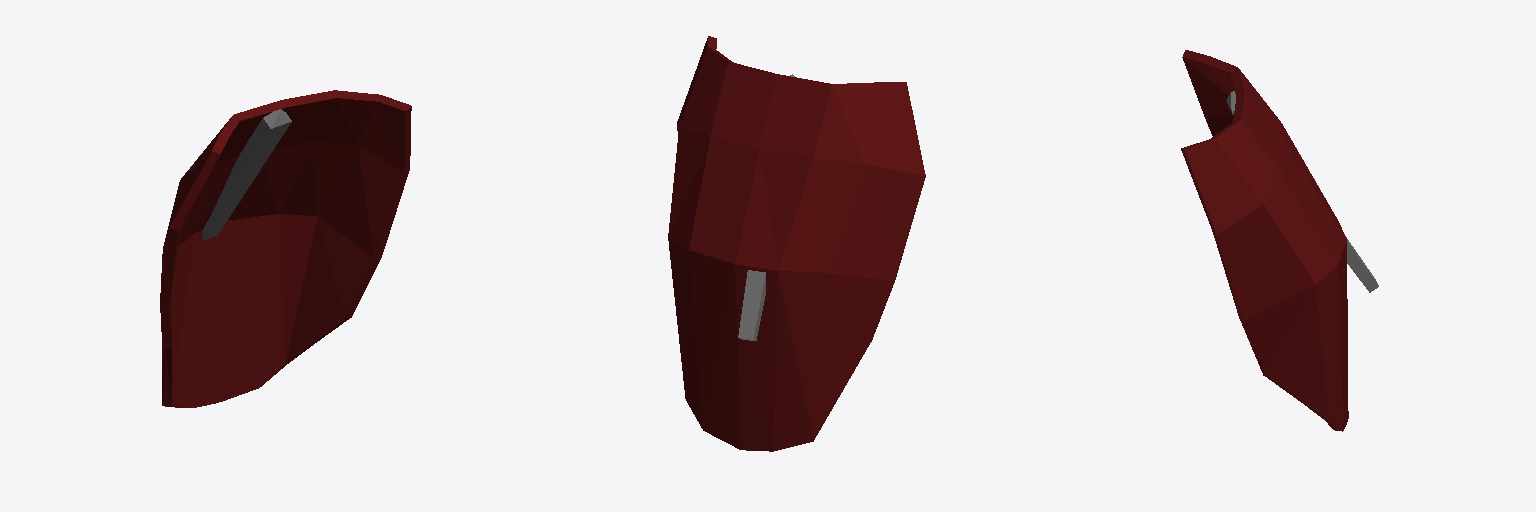
Rendered from flyF.obj.
3 views of the same model, side by side, from view 1: azimuth 30°, elevation 25°; view 2: azimuth 150°, elevation 25°; view 3: azimuth 270°, elevation 25° (orthographic).
Visible parts, largest first — view 1: IronMan1:null_77, IronMan1:null_209; view 2: IronMan1:null_77, IronMan1:null_209; view 3: IronMan1:null_77, IronMan1:null_209.
Boxes of the visible parts, x1=… form: IronMan1:null_77: x1=160, y1=90, x2=411, y2=407; IronMan1:null_209: x1=203, y1=109, x2=291, y2=240; IronMan1:null_77: x1=668, y1=36, x2=925, y2=451; IronMan1:null_209: x1=738, y1=74, x2=794, y2=340; IronMan1:null_77: x1=1181, y1=50, x2=1348, y2=431; IronMan1:null_209: x1=1226, y1=91, x2=1378, y2=292.
Size of the model in its own units: 2.23 by 2.91 by 1.57.